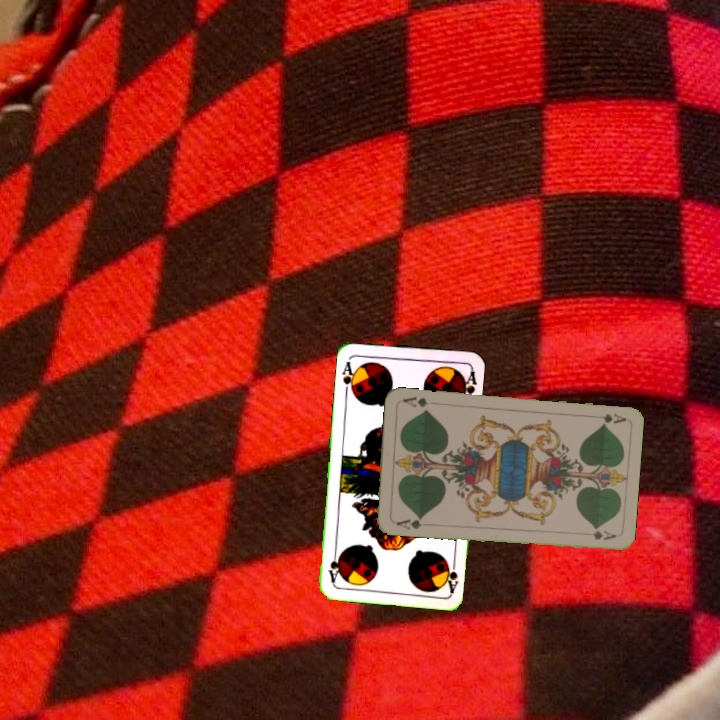GA: (392, 513, 425, 532), (599, 409, 628, 426)
SA: (338, 357, 359, 397), (441, 554, 461, 595)
